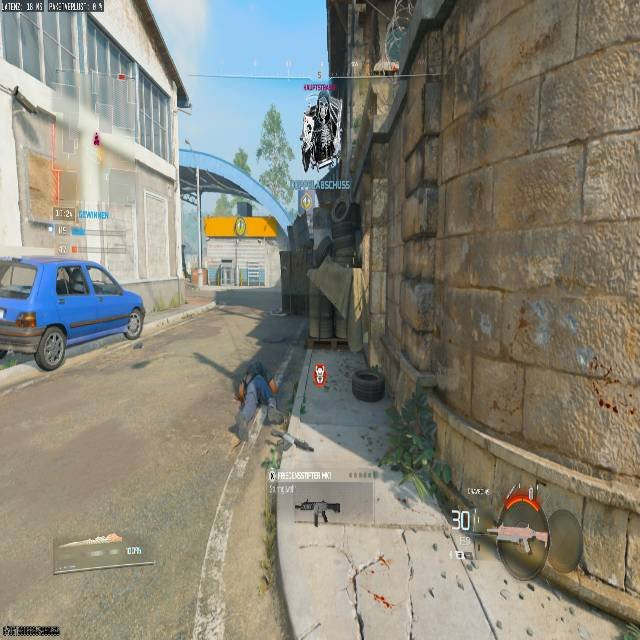player: (230, 359, 315, 473), (301, 93, 340, 173)
